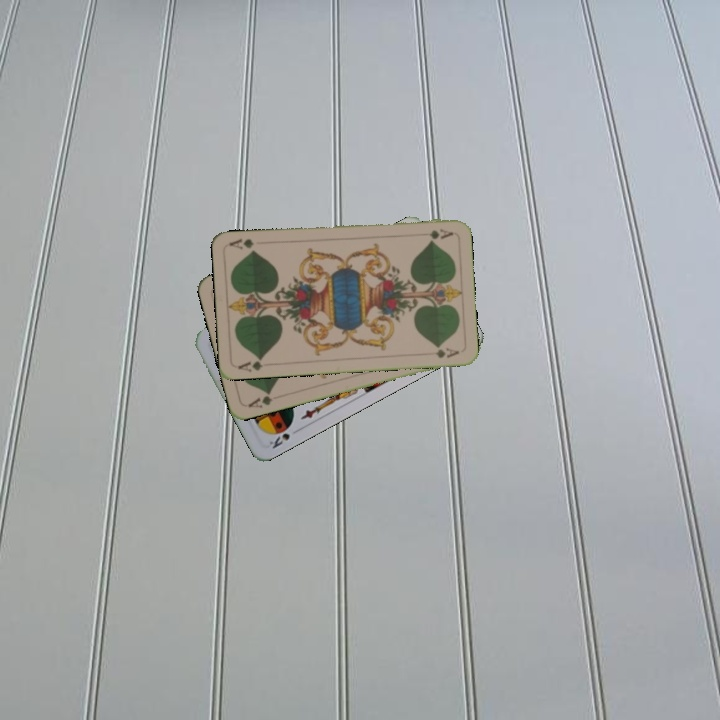GA: (244, 387, 283, 410), (234, 353, 265, 374), (425, 225, 455, 242)
SK: (265, 429, 293, 451)
